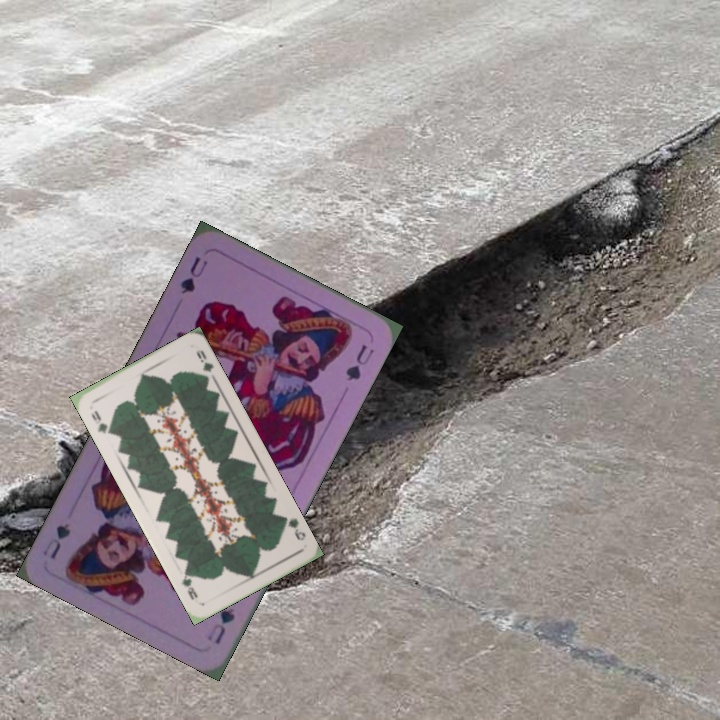G9: (277, 512, 308, 543), (87, 406, 115, 437)
GU: (176, 252, 210, 297), (203, 604, 238, 647)
